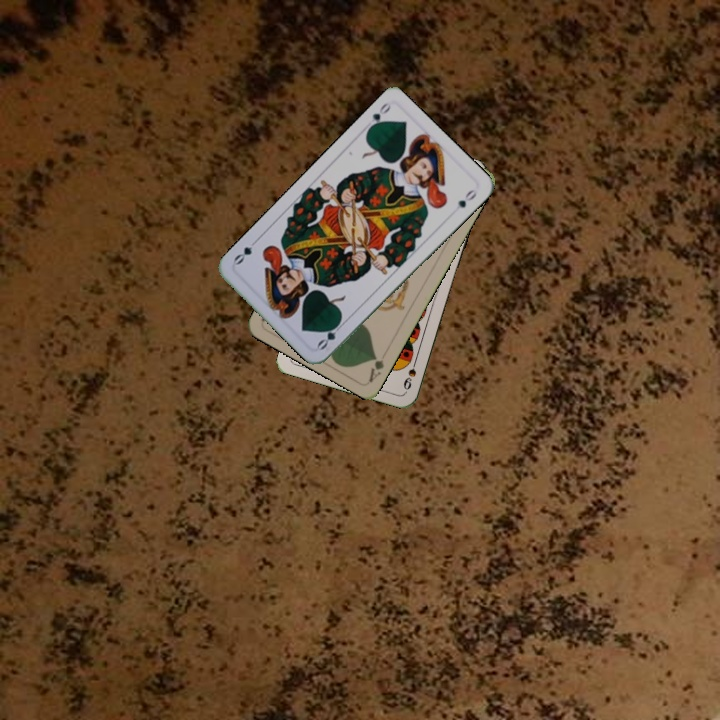GA: (365, 352, 387, 384)
GO: (313, 316, 347, 352), (363, 98, 393, 134)
S9: (399, 354, 420, 392)
